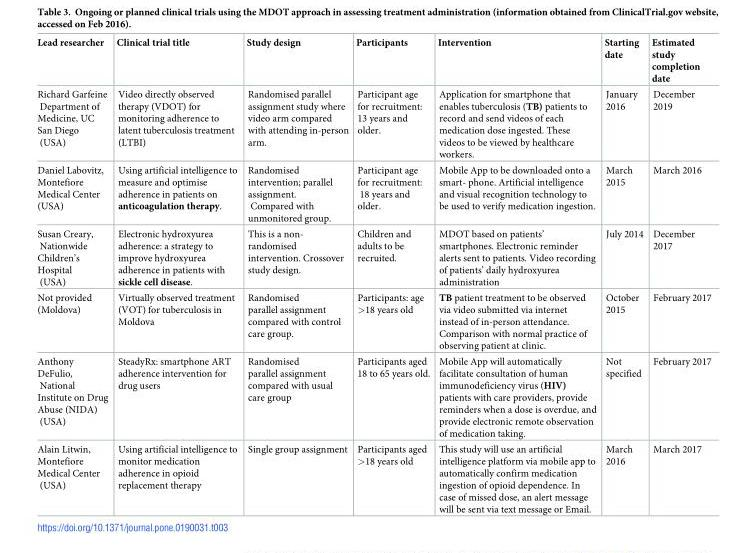table: (36, 37, 710, 513)
table column: (433, 37, 599, 513), (111, 37, 241, 513), (241, 37, 351, 513), (351, 37, 433, 513), (36, 37, 111, 513), (646, 37, 710, 513), (599, 37, 646, 513)
table column header: (36, 37, 710, 86)
table row: (36, 353, 710, 441), (36, 86, 710, 161), (36, 441, 710, 513), (36, 161, 710, 225), (36, 225, 710, 289), (36, 289, 710, 353), (36, 37, 710, 86)
